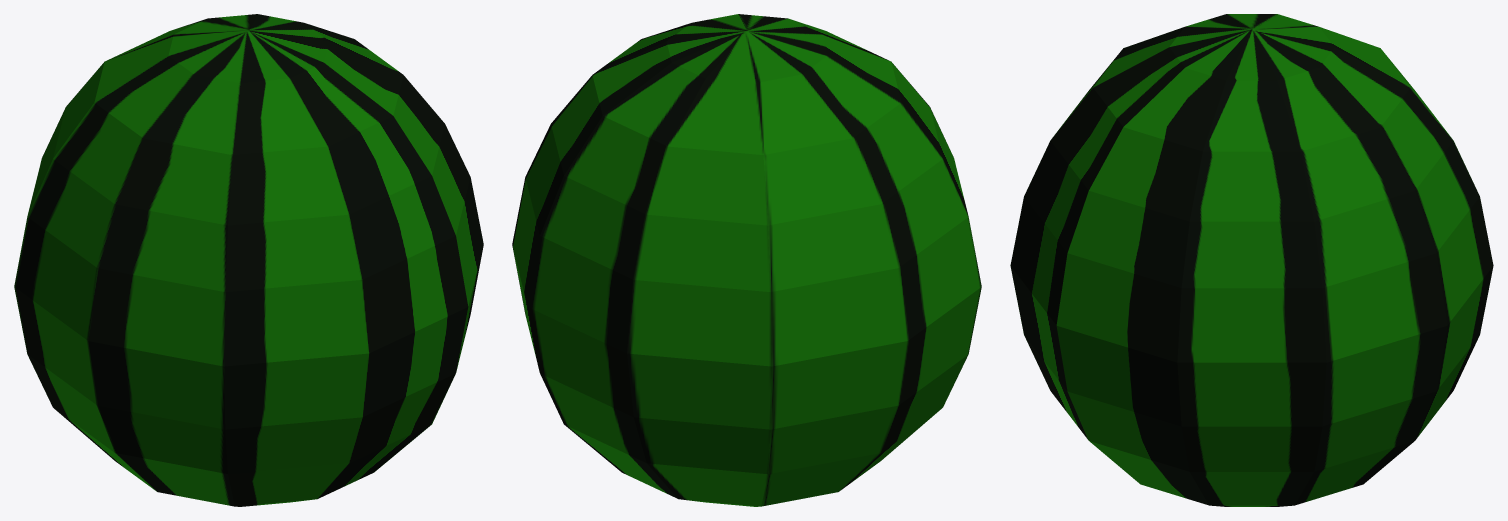
Rendered from Base Semangka.fbx.
3 renders of one model, left to right at view 1: azimuth 30°, elevation 25°; view 2: azimuth 150°, elevation 25°; view 3: azimuth 270°, elevation 25°, orthographic.
Visible parts, largest first — view 1: Semangka; view 2: Semangka; view 3: Semangka.
Boxes of the visible parts, x1,y1,x2,y2 form: Semangka: [14, 14, 483, 506]; Semangka: [512, 14, 981, 506]; Semangka: [1010, 14, 1493, 506].
Size of the model in its own units: 228 by 249 by 240.
